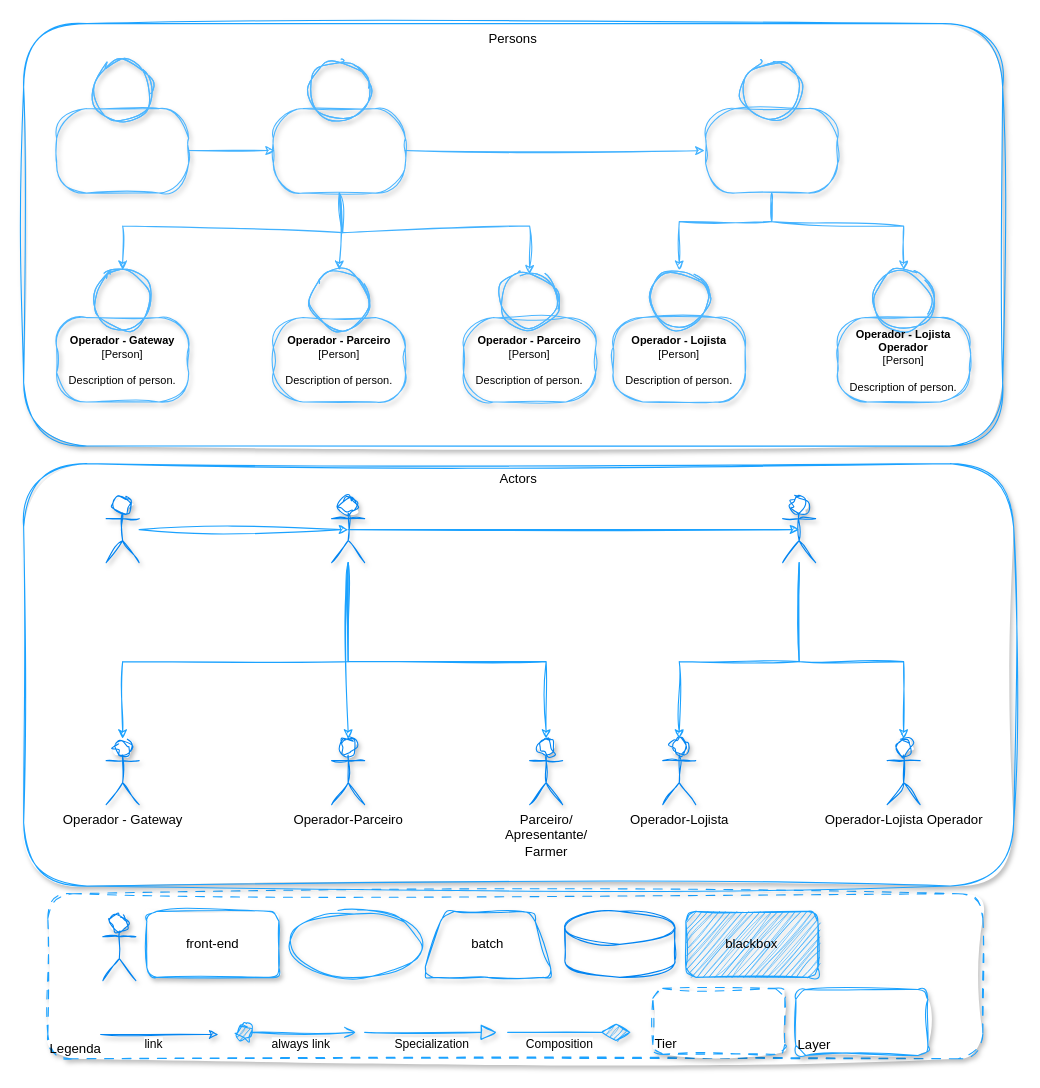
This 1040x1088 diagram has some shape labels left out. Here are the shapes that lost their labels. From the top down, the centre of each, then its label:
At point 123,128: "Apresentante [Person] Description of person.".
At point 340,128: "Parceiro [Person] Description of person.".
At point 772,128: "Lojista [Person] Description of person.".
At point 123,530: "Apresentante".
At point 348,530: "Parceiro".
At point 799,530: "Lojista".
At point 119,948: "Actor".
At point 356,945: "Service".
At point 620,945: "database".
